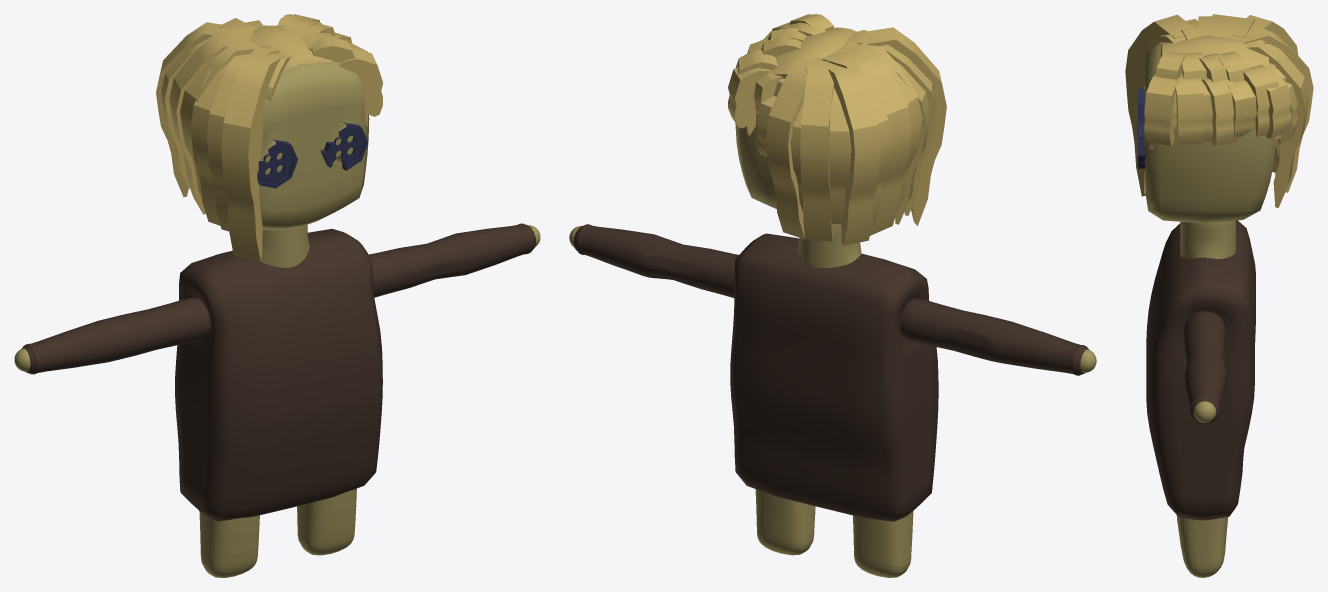
File: Character.fbx
The picture shows the model from 3 angles, left to right: view 1: azimuth 30°, elevation 25°; view 2: azimuth 150°, elevation 25°; view 3: azimuth 270°, elevation 25°; orthographic projection. The views are drawn at different scales.
Visible parts, largest first — view 1: pCylinder10; view 2: pCylinder10; view 3: pCylinder10.
Part boxes in pixels (x1,y1,x2,y2): pCylinder10: (14,14,540,577); pCylinder10: (569,14,1096,577); pCylinder10: (1125,14,1313,577).
Bounding box in the file's own units: 3.57 × 3.44 × 1.14.
